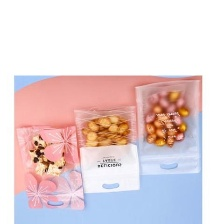snack: (129, 76, 202, 179), (67, 103, 144, 198), (13, 120, 89, 214)
